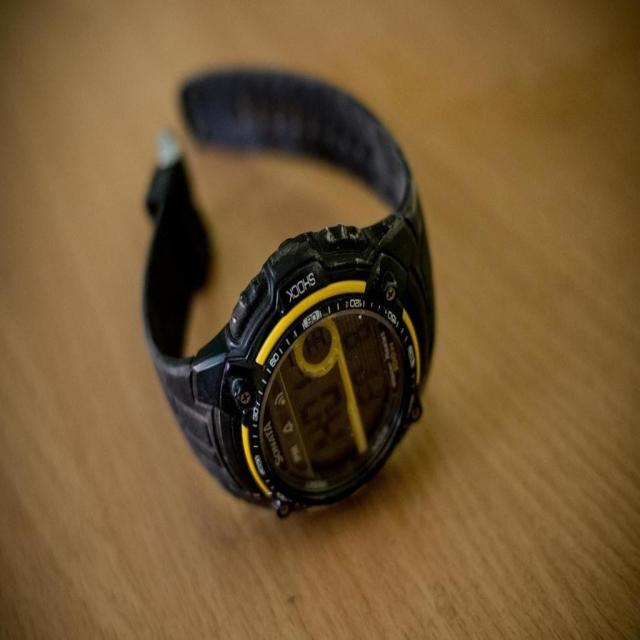Wrist watch: (139, 65, 439, 520)
